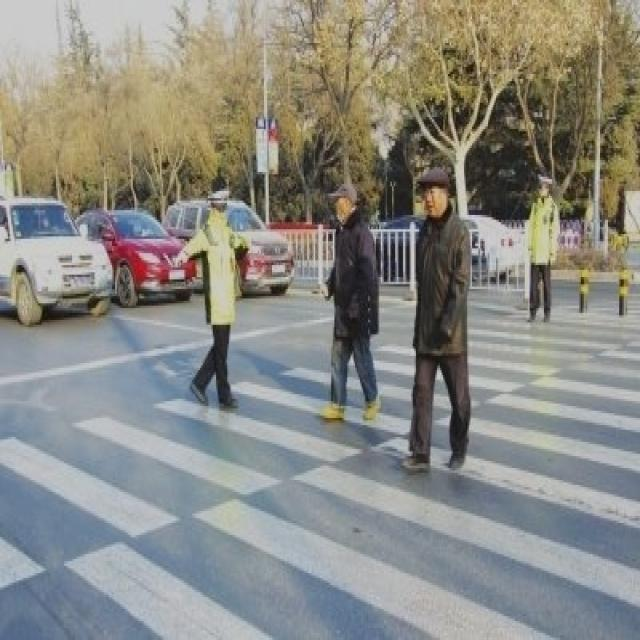non-fight: (395, 170, 480, 478), (317, 162, 389, 416), (182, 198, 244, 408), (522, 179, 560, 325)
